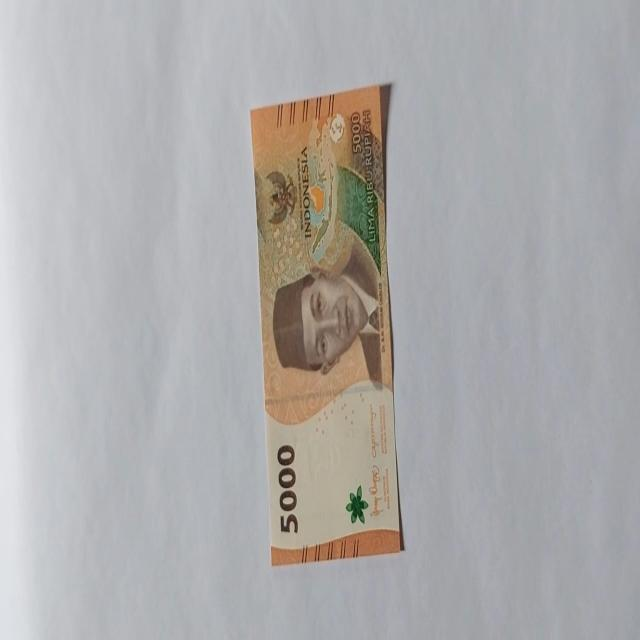lima ribu rupiah: (250, 82, 404, 564)
